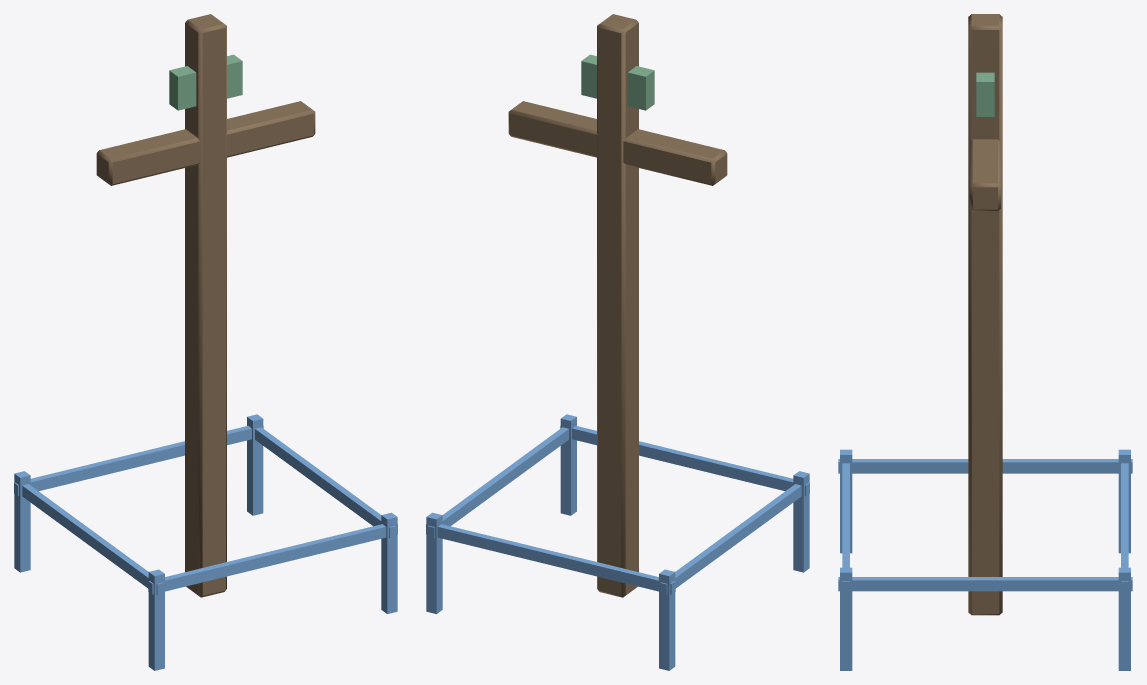
Rendered from Krzyz_Przydrozny.fbx.
The picture shows the model from 3 angles, left to right: view 1: azimuth 30°, elevation 25°; view 2: azimuth 150°, elevation 25°; view 3: azimuth 270°, elevation 25°; orthographic projection. The views are drawn at different scales.
Visible parts, largest first — view 1: Krzyz_Przydrozny; view 2: Krzyz_Przydrozny; view 3: Krzyz_Przydrozny.
Part boxes in pixels (x1,y1,x2,y2): Krzyz_Przydrozny: [14, 14, 397, 670]; Krzyz_Przydrozny: [426, 14, 809, 670]; Krzyz_Przydrozny: [838, 14, 1132, 670].
Bounding box in the file's own units: 1.9 × 4.2 × 1.9.
